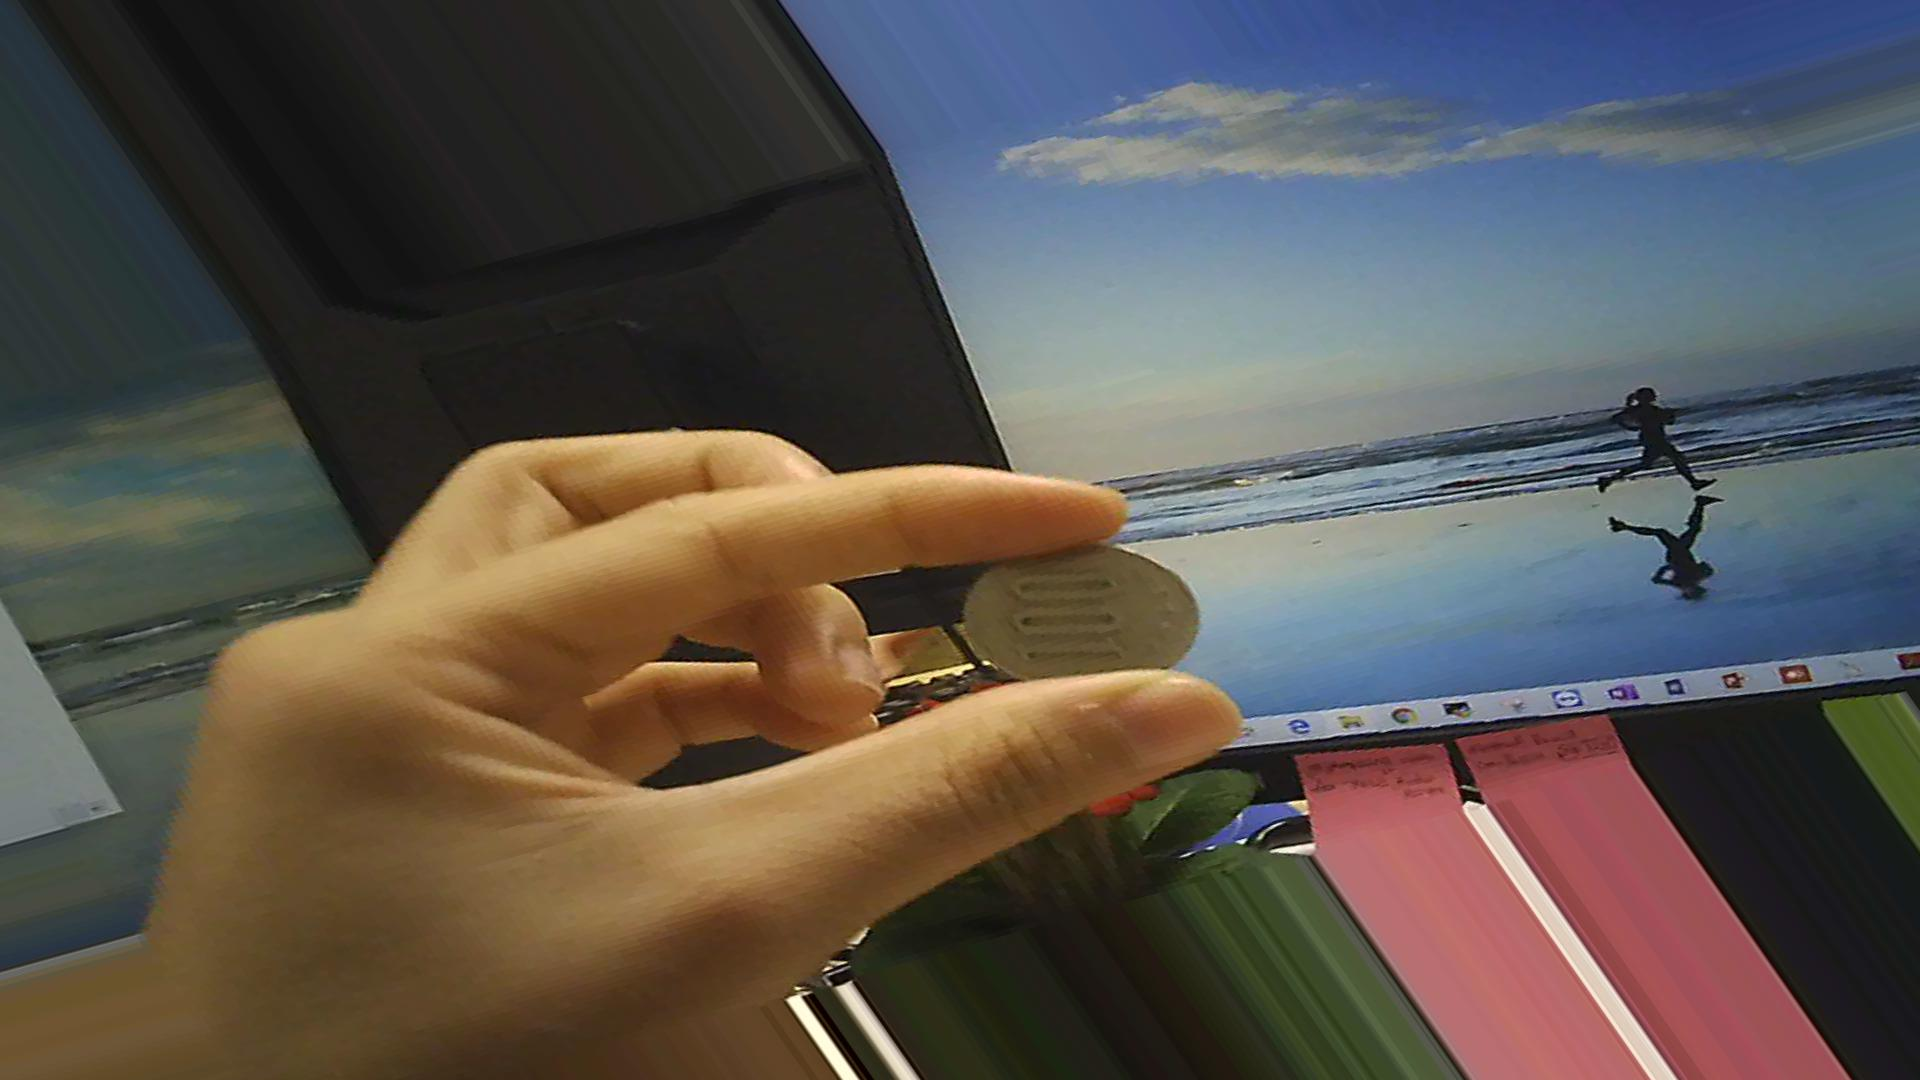100 Yen: (939, 533, 1201, 700)
